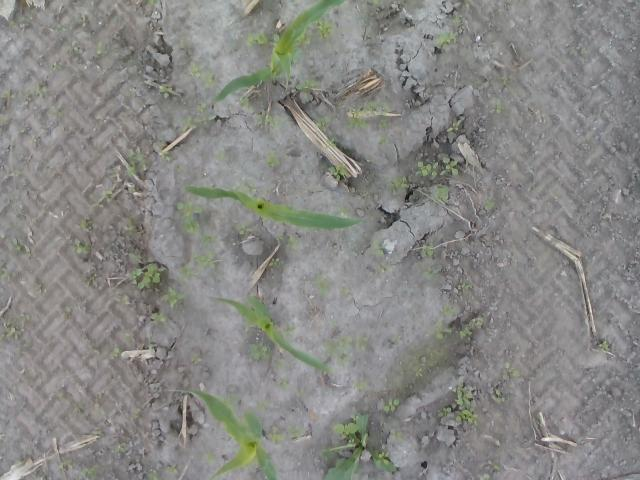Maize: (214, 0, 346, 101), (206, 294, 334, 374), (170, 387, 280, 480), (184, 184, 366, 232)
Weeds: (317, 412, 397, 480), (344, 99, 392, 130), (124, 262, 168, 289), (0, 314, 32, 348), (176, 198, 203, 235), (322, 336, 352, 368), (124, 146, 148, 178), (254, 108, 282, 133), (232, 178, 258, 204), (450, 378, 473, 406), (294, 78, 320, 100), (194, 102, 217, 126), (214, 391, 238, 414), (314, 16, 336, 40), (192, 250, 218, 270), (154, 137, 174, 162), (454, 406, 479, 426), (88, 188, 112, 208), (248, 340, 272, 360), (162, 286, 186, 305), (428, 320, 452, 339), (434, 31, 456, 51), (388, 176, 411, 195), (414, 161, 439, 178), (292, 26, 312, 46), (70, 237, 92, 255), (245, 31, 269, 47), (440, 157, 460, 176), (502, 362, 521, 381), (368, 238, 388, 256), (10, 237, 32, 253), (78, 464, 100, 480), (327, 165, 349, 181), (188, 59, 206, 78), (122, 216, 141, 234), (266, 425, 284, 444), (176, 262, 194, 281), (7, 14, 30, 28), (202, 72, 220, 89), (178, 114, 196, 131), (432, 186, 449, 204), (312, 276, 329, 294), (315, 115, 332, 132), (284, 234, 302, 250), (234, 222, 254, 236), (285, 424, 303, 439), (354, 333, 368, 352), (352, 376, 368, 392), (488, 100, 504, 116), (238, 96, 255, 111), (266, 150, 280, 168), (382, 398, 400, 412), (0, 88, 16, 103), (34, 82, 49, 98), (157, 82, 174, 96), (389, 428, 406, 442), (468, 316, 486, 329), (201, 234, 219, 247), (150, 311, 166, 325), (108, 346, 124, 360), (254, 398, 270, 412), (436, 406, 452, 420), (372, 261, 392, 272), (422, 266, 440, 278), (442, 304, 458, 317), (112, 295, 132, 305), (95, 41, 109, 55), (420, 244, 434, 258), (458, 326, 473, 339), (202, 454, 218, 466), (84, 274, 98, 287), (491, 389, 504, 403), (58, 458, 73, 470), (276, 378, 291, 390), (447, 120, 462, 132), (79, 219, 95, 230), (324, 136, 336, 150), (48, 106, 62, 118), (281, 324, 295, 336), (337, 205, 351, 217), (214, 150, 229, 161), (146, 332, 154, 352), (243, 316, 253, 332), (68, 40, 80, 53), (270, 33, 282, 46), (274, 357, 286, 370), (54, 23, 68, 34), (484, 196, 495, 210), (598, 340, 610, 352), (72, 403, 88, 412), (412, 366, 424, 378), (93, 403, 106, 414), (62, 306, 72, 320), (148, 469, 160, 480), (294, 386, 305, 398), (339, 286, 352, 296), (268, 257, 281, 267), (1, 266, 10, 280), (129, 253, 143, 262), (114, 444, 128, 453), (76, 13, 87, 24), (10, 168, 22, 178), (460, 282, 472, 292), (123, 332, 133, 344), (88, 344, 100, 354), (364, 154, 376, 164), (166, 464, 178, 474), (378, 137, 390, 147), (500, 74, 510, 86), (476, 472, 490, 480), (21, 88, 32, 98), (50, 61, 61, 71), (488, 460, 500, 469), (580, 47, 590, 56), (452, 15, 462, 24), (134, 408, 142, 419), (92, 429, 104, 436), (462, 0, 472, 8), (394, 332, 402, 342), (329, 320, 338, 328), (191, 356, 203, 362), (275, 234, 283, 243), (34, 282, 41, 292), (56, 391, 66, 398), (147, 0, 157, 7), (366, 0, 380, 5), (30, 134, 38, 142), (332, 44, 340, 52), (412, 312, 421, 319), (109, 172, 118, 179), (34, 475, 46, 480), (176, 166, 183, 172), (15, 459, 22, 465)
